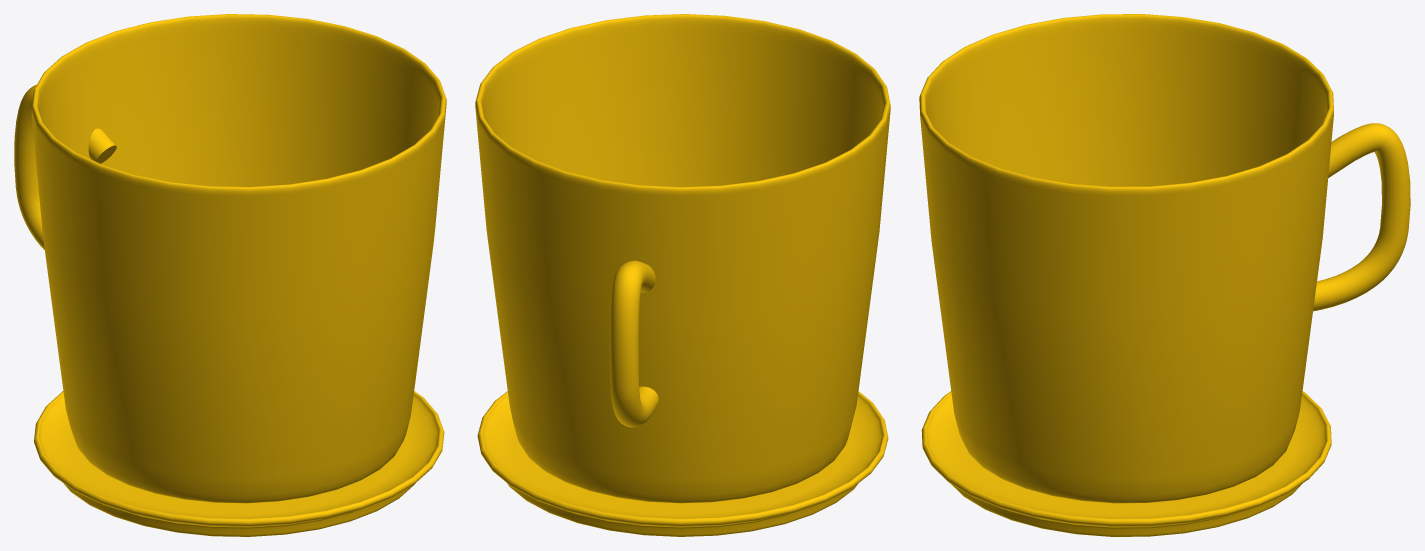
Rendered from CUP.gltf.
3 views of the same model, side by side, from view 1: azimuth 30°, elevation 25°; view 2: azimuth 150°, elevation 25°; view 3: azimuth 270°, elevation 25° (orthographic).
Visible parts, largest first — view 1: Lathe.1, Lathe, Sweep; view 2: Lathe.1, Lathe, Sweep; view 3: Lathe.1, Lathe, Sweep.
Boxes of the visible parts, box(x1,y1,x2,y2) form: Lathe.1: box(31, 14, 446, 503); Lathe: box(34, 391, 444, 536); Sweep: box(14, 84, 116, 250); Lathe.1: box(475, 14, 890, 503); Lathe: box(477, 391, 888, 536); Sweep: box(610, 260, 658, 427); Lathe.1: box(919, 14, 1333, 503); Lathe: box(921, 391, 1331, 536); Sweep: box(1313, 123, 1410, 311).
Bounding box in the file's own units: 722 × 688 × 855.
